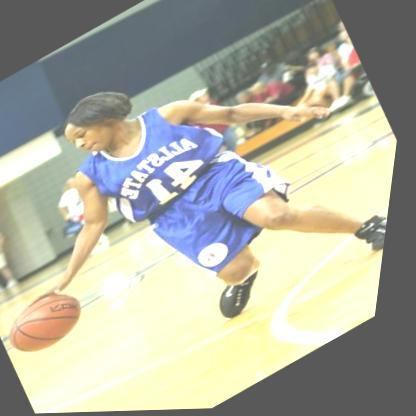basketball: (3, 279, 104, 365)
